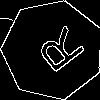R: (27, 24, 87, 81)
